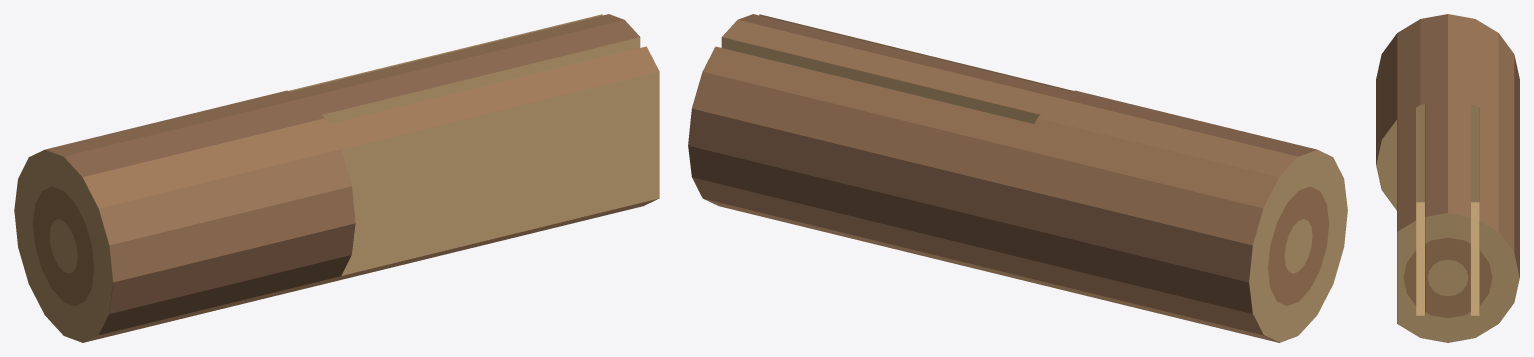
The model's file is wip_log_to_planks.glb.
3 views of the same model, side by side, from view 1: azimuth 30°, elevation 25°; view 2: azimuth 150°, elevation 25°; view 3: azimuth 270°, elevation 25° (orthographic). The views are drawn at different scales.
Parts seen in each view (by area): view 1: wip_log_to_planks; view 2: wip_log_to_planks; view 3: wip_log_to_planks.
Part boxes in pixels (x1,y1,x2,y2): wip_log_to_planks: [14, 14, 659, 342]; wip_log_to_planks: [688, 14, 1347, 342]; wip_log_to_planks: [1376, 14, 1519, 342].
Size of the model in its own units: 0.74 by 0.226 by 0.226.
